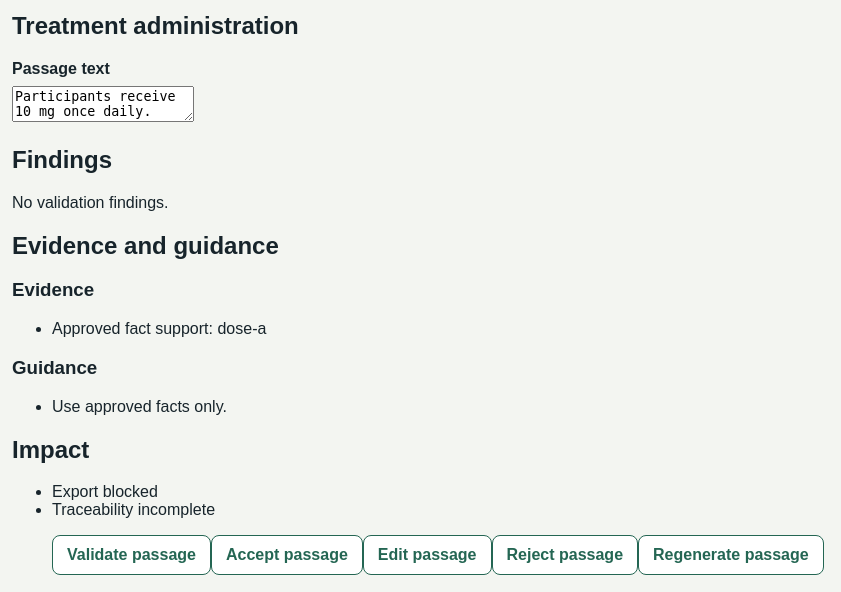
it: PassageEditor › saves an unsupported edit and regenerates from its authoritative version
Replace the text in the text box labelled "Passage text" with "Participants receive 99 mg once daily." at (103, 104), box [12,86,194,122]
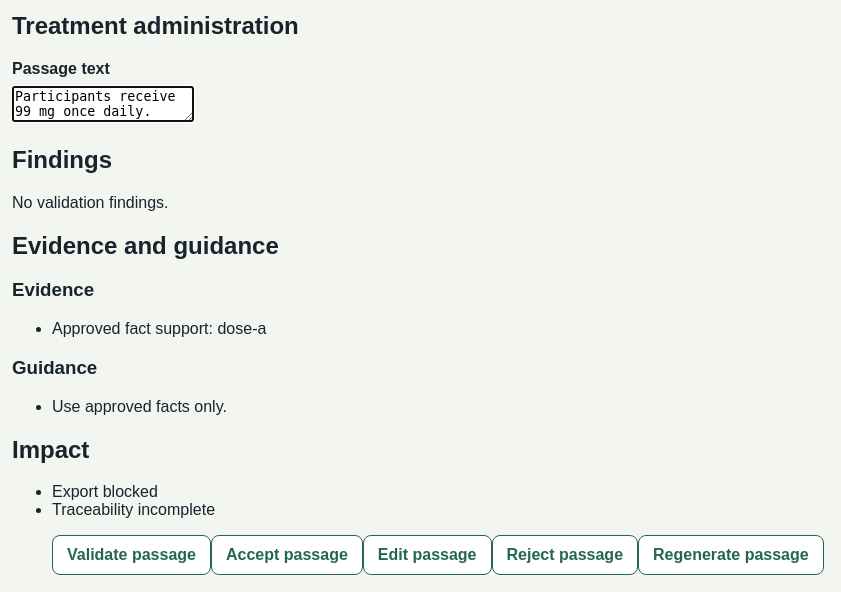
Click the button "Validate passage".
click(132, 555)  # box [52,535,211,575]
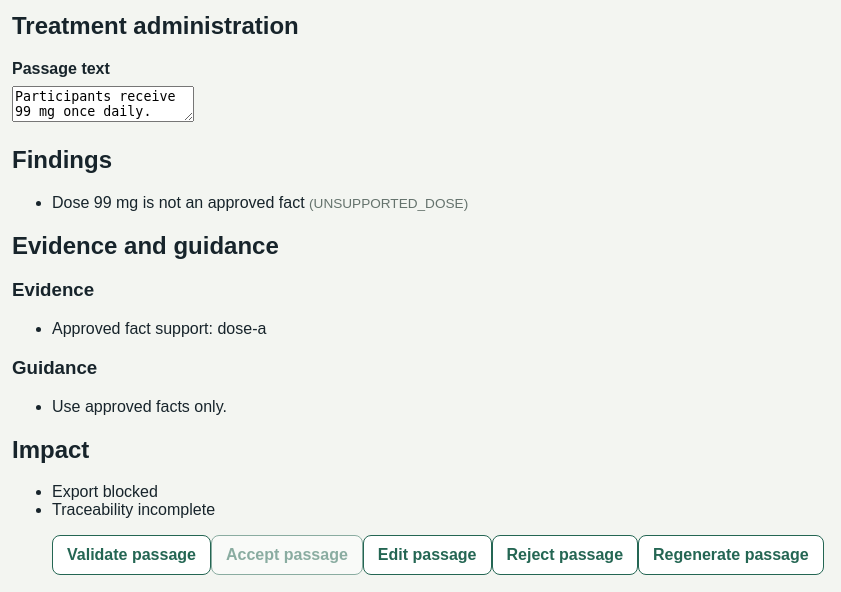
Now the list item "Dose 99 mg is not an approved fact" is shown, box [52,194,305,211]
Now the text "(UNSUPPORTED_DOSE)" is shown, box [309,196,468,211]
Click the button "Regenerate passage".
click(731, 555)  # box [638,535,824,575]
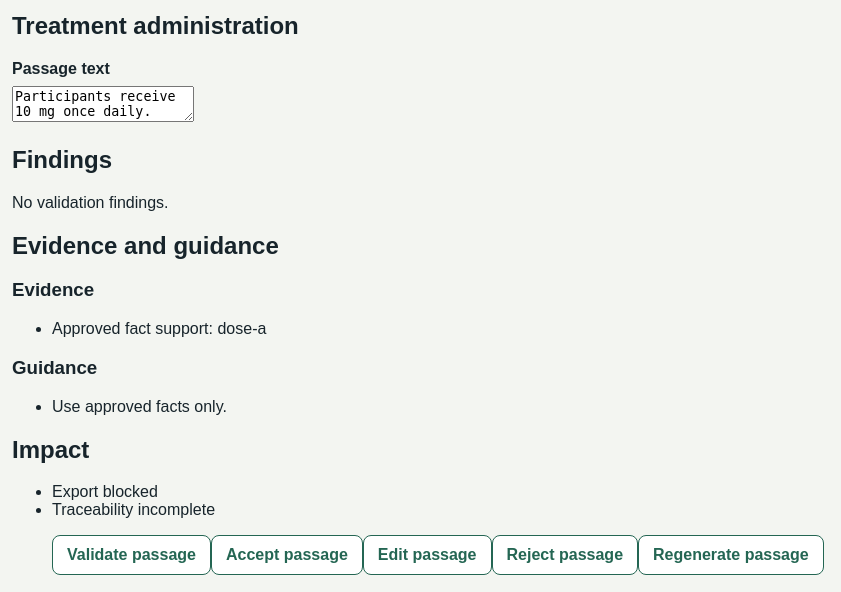
Now the text "No validation findings." is shown, box [12,194,168,211]
